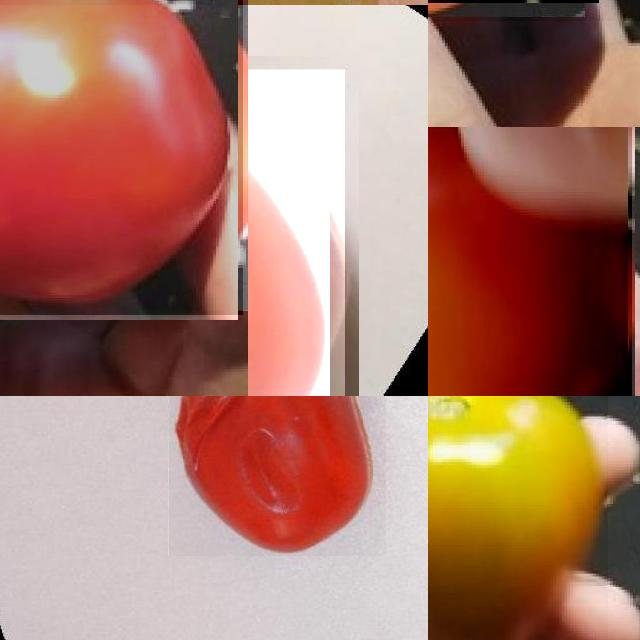1: (168, 396, 386, 556)
Fresh Tomato: (0, 0, 243, 315), (428, 396, 608, 640), (248, 69, 345, 396)
